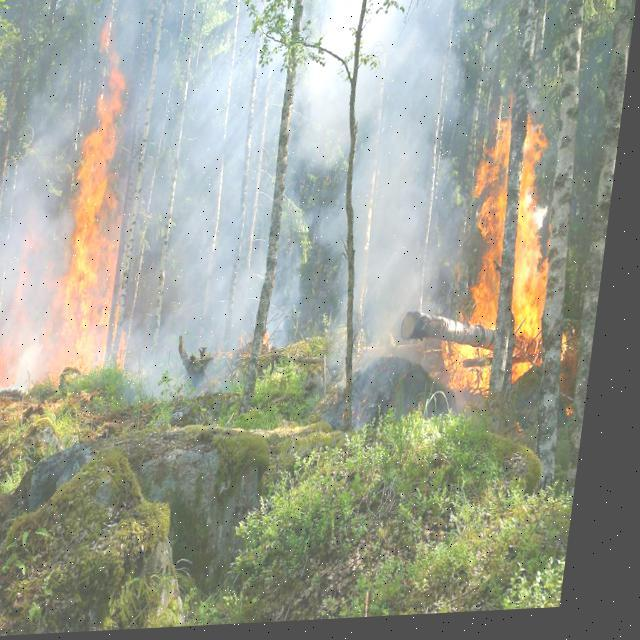Fire: (0, 9, 181, 418), (441, 80, 614, 416)
